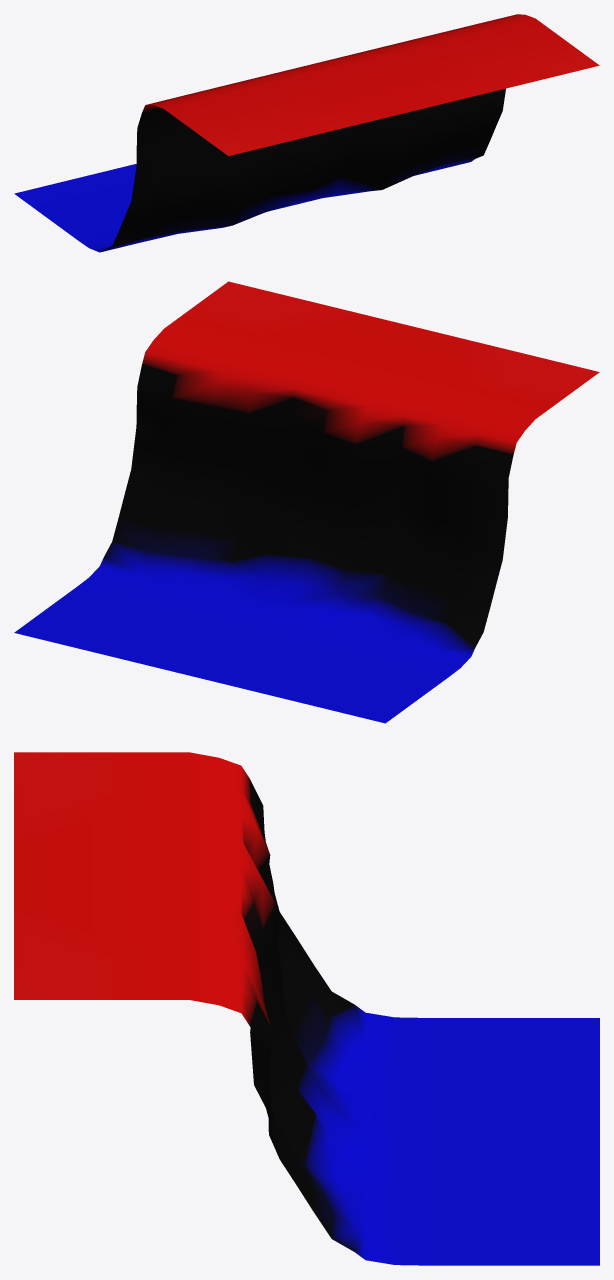
Rendered from RiveCliff01A Background.fbx.
3 views of the same model, one above another, from view 1: azimuth 30°, elevation 25°; view 2: azimuth 150°, elevation 25°; view 3: azimuth 270°, elevation 25° (orthographic). The views are drawn at different scales.
Visible parts, largest first — view 1: RiveCliff01A Background; view 2: RiveCliff01A Background; view 3: RiveCliff01A Background.
Part boxes in pixels (x1=…): RiveCliff01A Background: x1=14, y1=14, x2=599, y2=252; RiveCliff01A Background: x1=14, y1=281, x2=599, y2=723; RiveCliff01A Background: x1=14, y1=752, x2=599, y2=1265.
Bounding box in the file's own units: 2 × 1 × 2.
